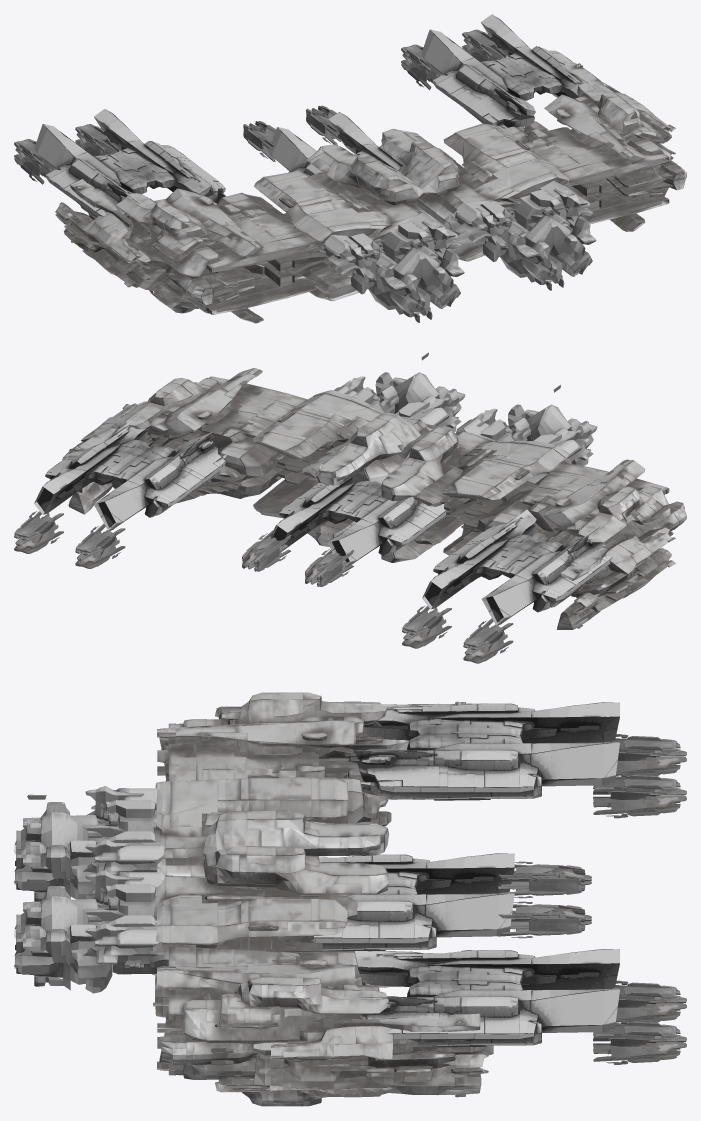
Rendered from CARIER_004.fbx.
3 renders of one model, top to bottom at view 1: azimuth 30°, elevation 25°; view 2: azimuth 150°, elevation 25°; view 3: azimuth 270°, elevation 25°, orthographic. The views are drawn at different scales.
Parts seen in each view (by area): view 1: CARIER_004; view 2: CARIER_004; view 3: CARIER_004.
Boxes of the visible parts, left/top/right/bottom form: CARIER_004: left=14, top=14, right=686, bottom=323; CARIER_004: left=14, top=352, right=686, bottom=663; CARIER_004: left=14, top=692, right=686, bottom=1106.
Bounding box in the file's own units: 195 × 33.95 × 155.
